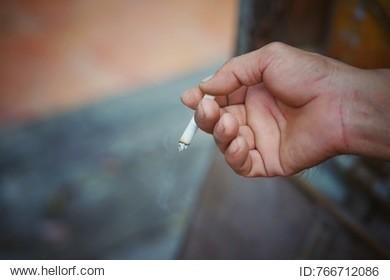Cigarette: (177, 87, 220, 153)
